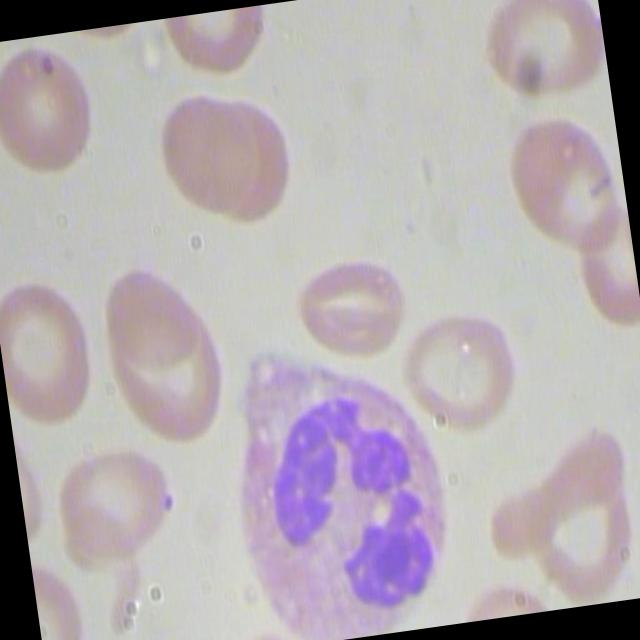RBC: (492, 99, 632, 266), (286, 229, 422, 368), (43, 429, 179, 568), (396, 304, 532, 442), (0, 265, 110, 433), (0, 31, 106, 194), (153, 81, 266, 221), (474, 0, 610, 108), (98, 246, 200, 374)
WBC: (212, 315, 464, 640)
